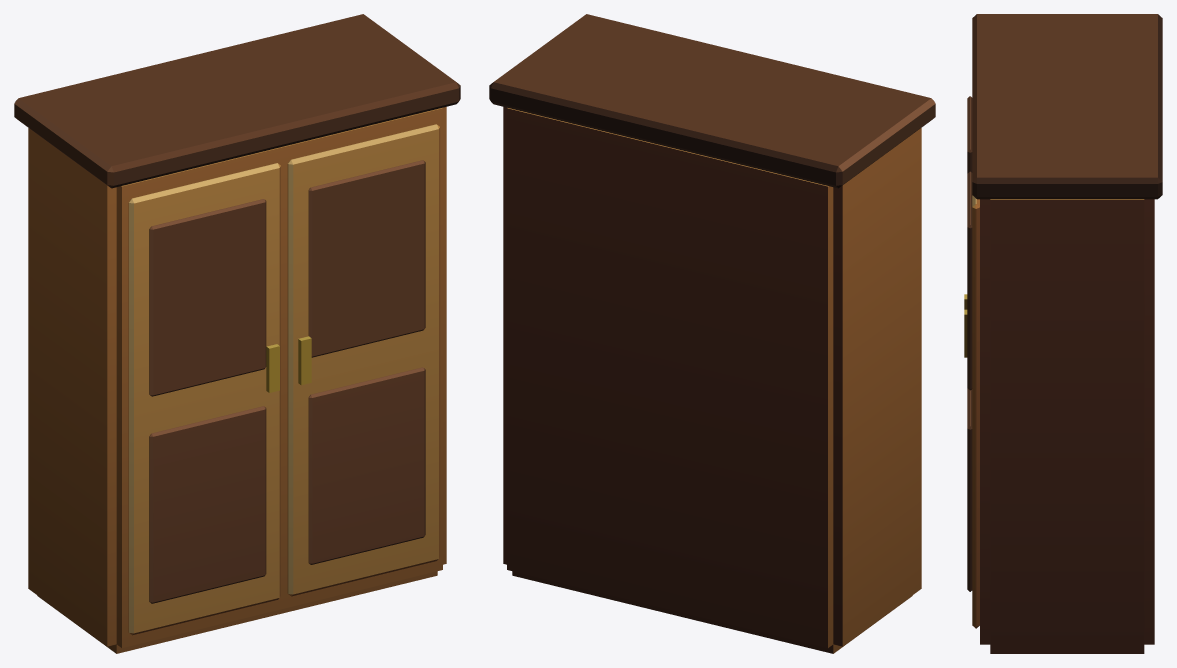
File: wardrobe.glb
The picture shows the model from 3 angles, left to right: view 1: azimuth 30°, elevation 25°; view 2: azimuth 150°, elevation 25°; view 3: azimuth 270°, elevation 25°; orthographic projection. The views are drawn at different scales.
Visible parts, largest first — view 1: wardrobe; view 2: wardrobe; view 3: wardrobe.
Part boxes in pixels (x1,y1,x2,y2): wardrobe: [14, 14, 460, 653]; wardrobe: [489, 14, 935, 653]; wardrobe: [964, 14, 1162, 653].
Bounding box in the file's own units: 1 × 1.34 × 0.5.
